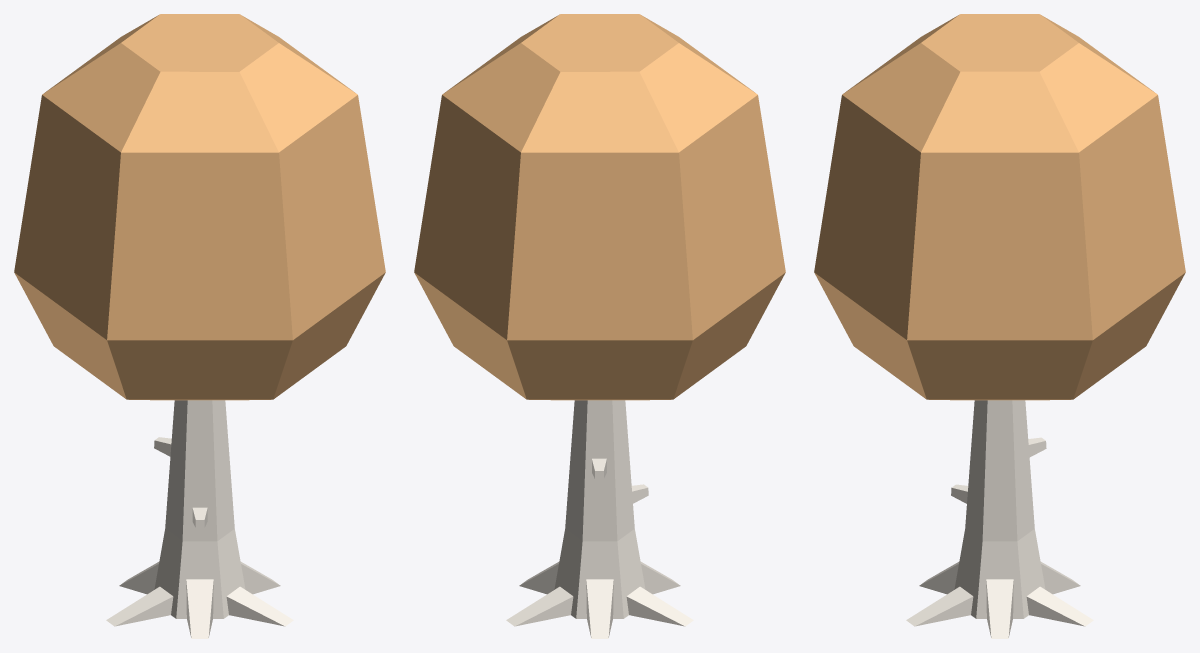
File: tree_oak_fall.glb
The picture shows the model from 3 angles, left to right: view 1: azimuth 30°, elevation 25°; view 2: azimuth 150°, elevation 25°; view 3: azimuth 270°, elevation 25°; orthographic projection.
Parts seen in each view (by area): view 1: tree_oak_fall; view 2: tree_oak_fall; view 3: tree_oak_fall.
Boxes of the visible parts, x1,y1,x2,y2 form: tree_oak_fall: (14, 14, 385, 638); tree_oak_fall: (414, 14, 785, 638); tree_oak_fall: (814, 14, 1185, 638).
Bounding box in the file's own units: 0.6406 × 1.23 × 0.7397.
